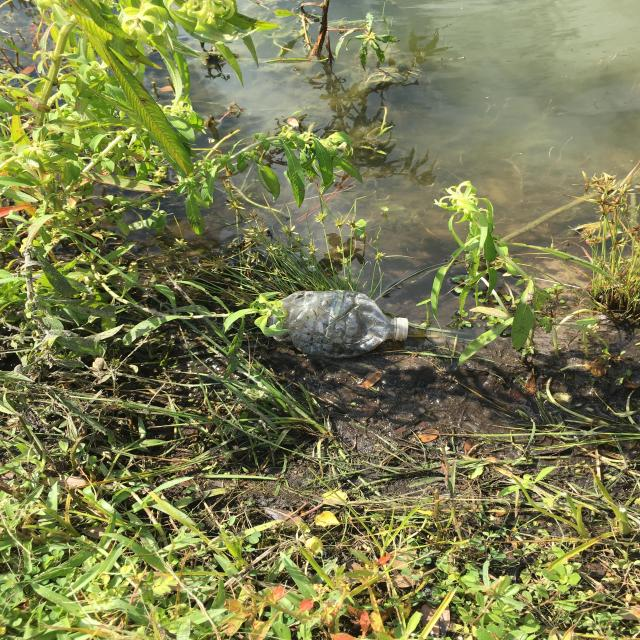litter: (279, 292, 407, 358)
